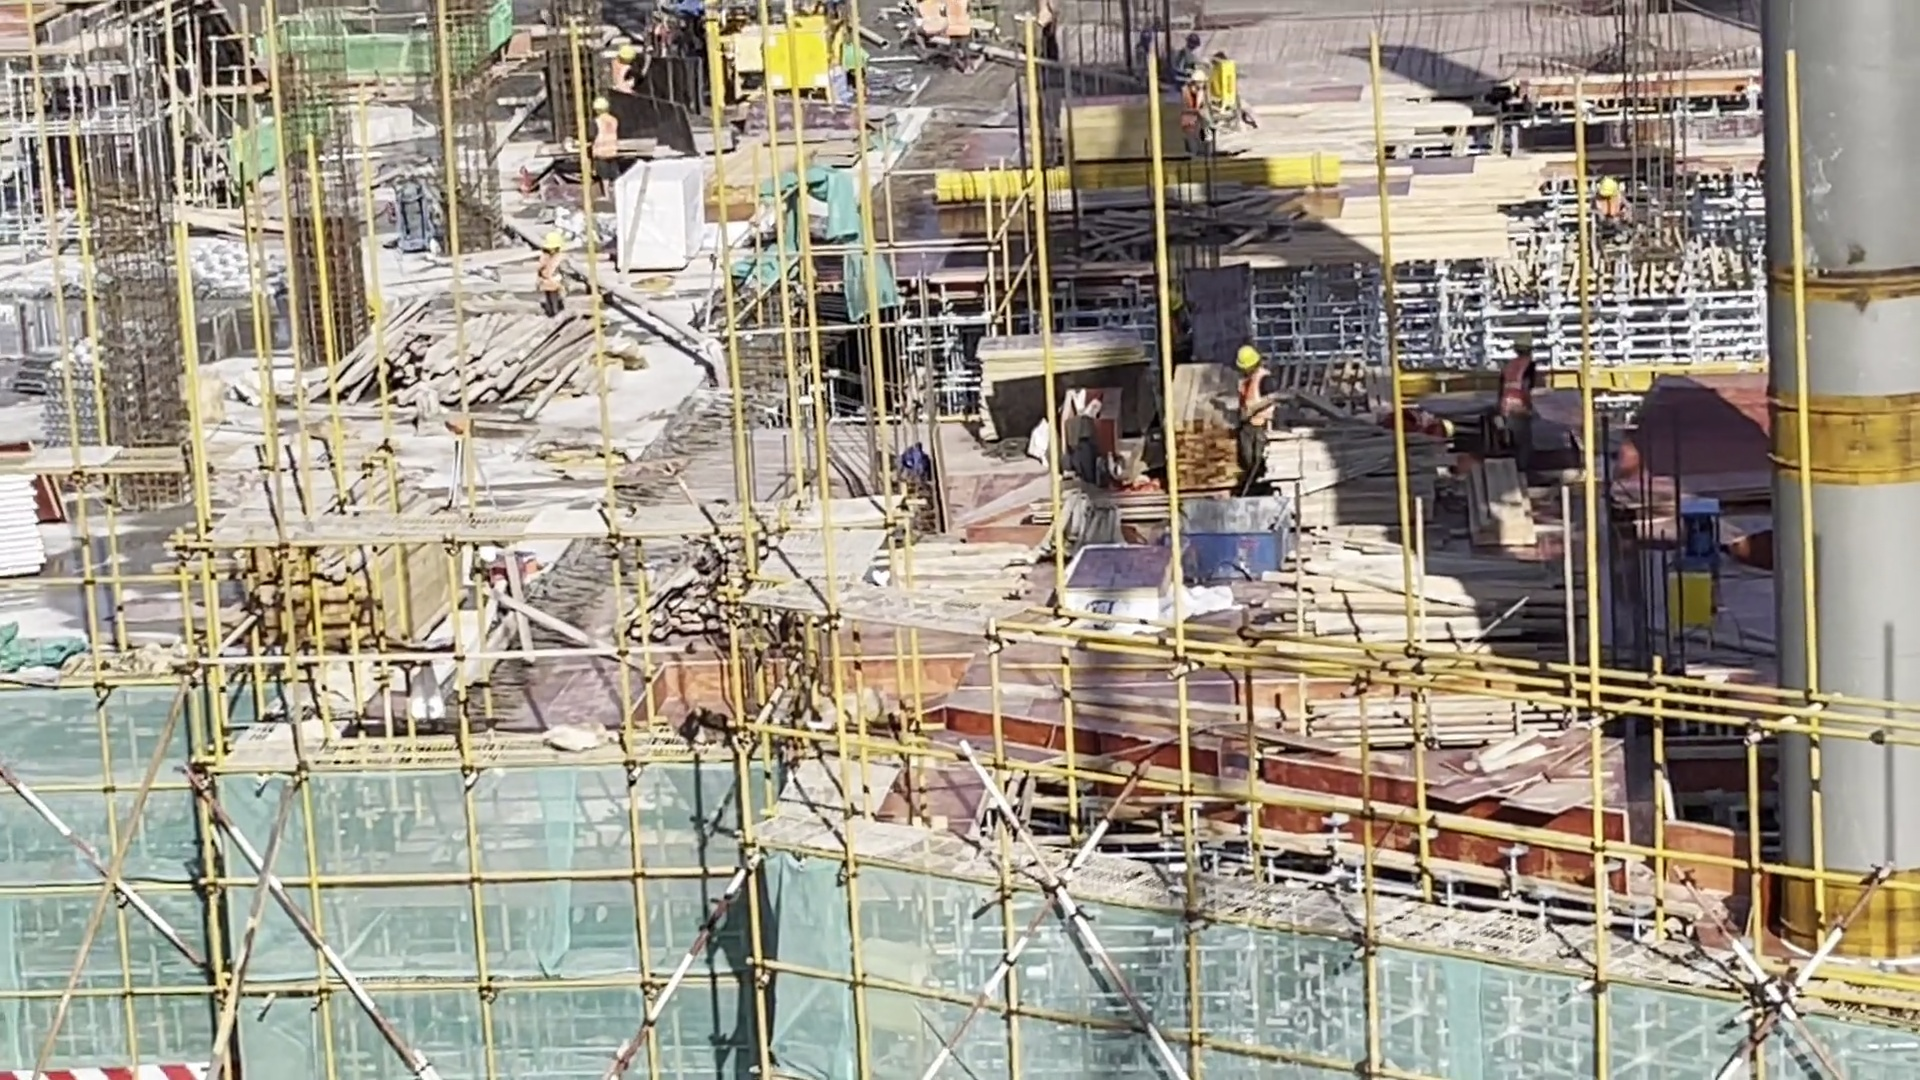helmet: (1231, 346, 1267, 379), (1510, 336, 1537, 359), (1599, 178, 1621, 201), (543, 233, 565, 254), (592, 97, 608, 112)
person: (1220, 336, 1283, 520), (1498, 336, 1544, 461), (581, 87, 619, 199), (1590, 177, 1638, 254), (537, 227, 570, 325), (1173, 68, 1208, 152)
vest: (1238, 371, 1276, 427), (1503, 358, 1533, 415), (592, 109, 622, 162), (538, 251, 569, 302), (1181, 81, 1207, 138)
